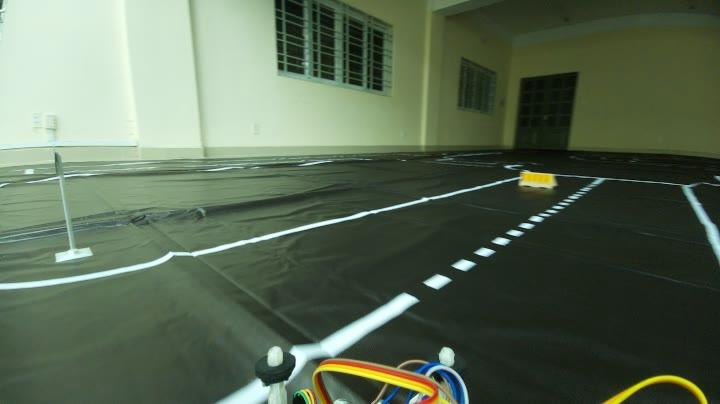roadblock: (514, 166, 564, 190)
